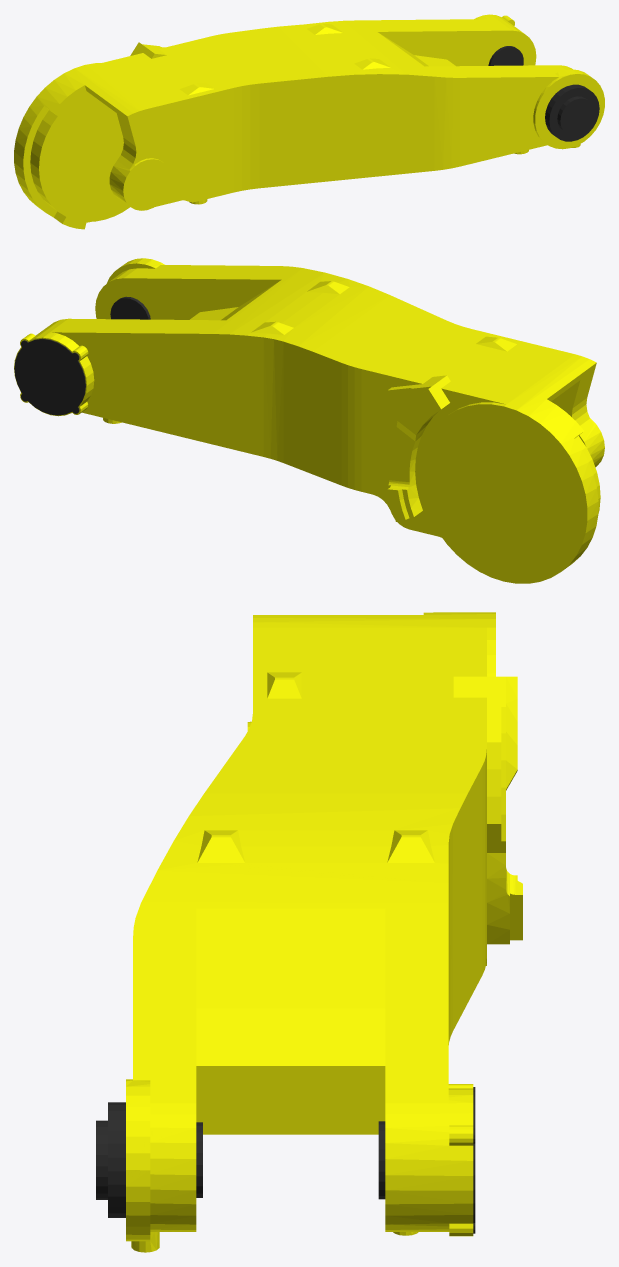
The picture shows the model from 3 angles, top to bottom: view 1: azimuth 30°, elevation 25°; view 2: azimuth 150°, elevation 25°; view 3: azimuth 270°, elevation 25°; orthographic projection. The views are drawn at different scales.
Parts seen in each view (by area): view 1: node; view 2: node; view 3: node.
Part boxes in pixels (x1,y1,x2,y2): node: [14, 14, 604, 229]; node: [14, 258, 604, 583]; node: [96, 612, 522, 1252].
Size of the model in its own units: 1201 by 354 by 445.
